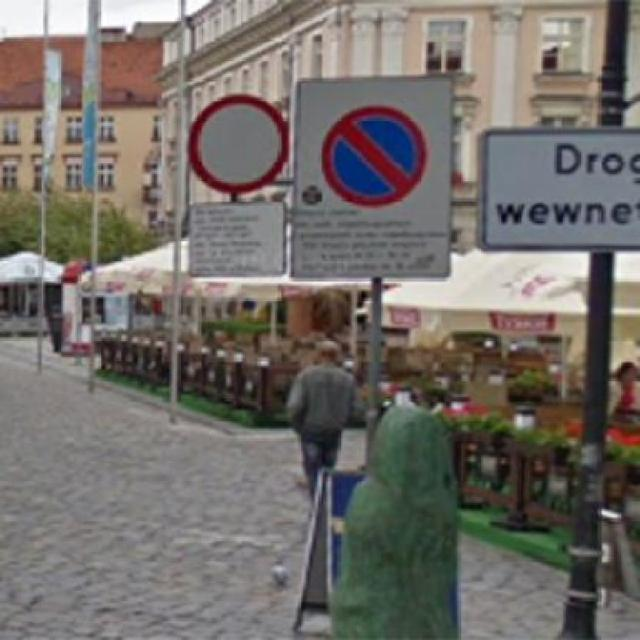Zakaz ruchu w obu kierunkach: (184, 91, 290, 195)
